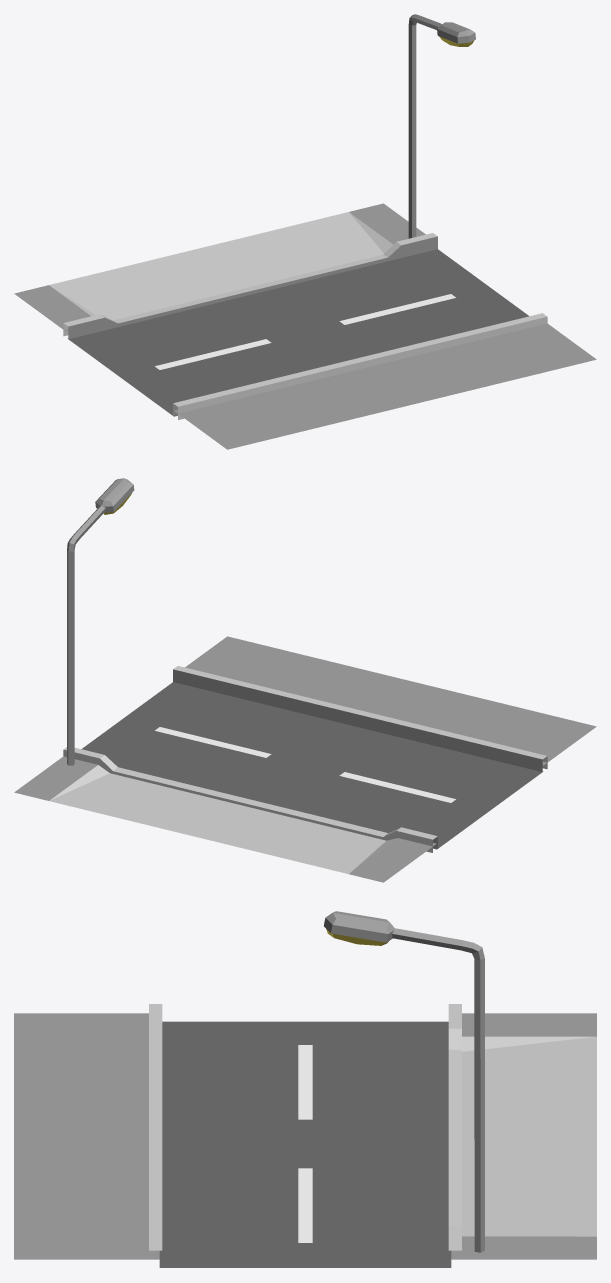
The model's file is road_tile_1x1_006.glb.
3 views of the same model, one above another, from view 1: azimuth 30°, elevation 25°; view 2: azimuth 150°, elevation 25°; view 3: azimuth 270°, elevation 25° (orthographic). The views are drawn at different scales.
Parts seen in each view (by area): view 1: road_tile_1x1_006; view 2: road_tile_1x1_006; view 3: road_tile_1x1_006.
Part boxes in pixels (bbox=[...]): road_tile_1x1_006: bbox=[14, 14, 596, 449]; road_tile_1x1_006: bbox=[14, 478, 596, 882]; road_tile_1x1_006: bbox=[14, 911, 596, 1267].
Bounding box in the file's own units: 8 × 5.25 × 8.
Materials: 1 (1 with a texture image).
